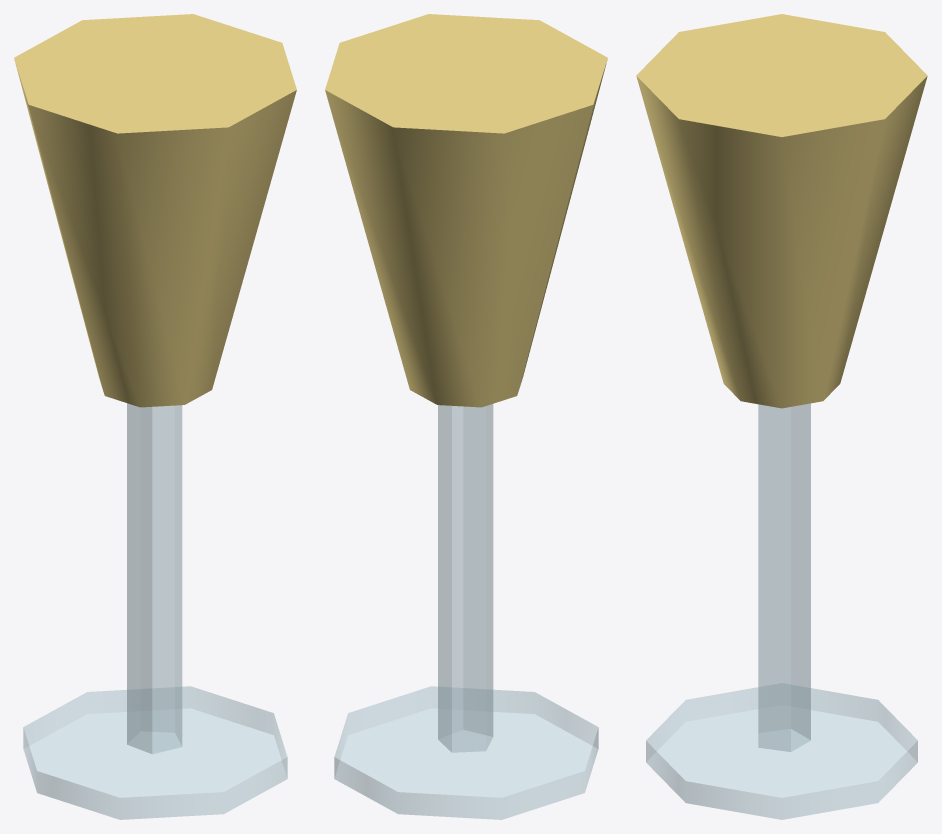
The model's file is station_special_ausstattung_2_0.glb.
3 renders of one model, left to right at view 1: azimuth 30°, elevation 25°; view 2: azimuth 150°, elevation 25°; view 3: azimuth 270°, elevation 25°, orthographic.
Visible parts, largest first — view 1: station_special_ausstattung_2_0; view 2: station_special_ausstattung_2_0; view 3: station_special_ausstattung_2_0.
Boxes of the visible parts, x1=… form: station_special_ausstattung_2_0: x1=14, y1=14, x2=296, y2=819; station_special_ausstattung_2_0: x1=325, y1=14, x2=607, y2=819; station_special_ausstattung_2_0: x1=636, y1=14, x2=927, y2=819.
Bounding box in the file's own units: 0.072 × 0.1872 × 0.072.
